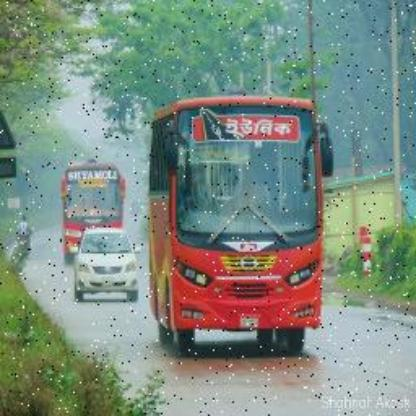bus: (151, 99, 329, 357), (64, 154, 132, 246)
